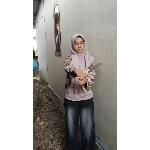Pisau: (83, 61, 105, 75)
